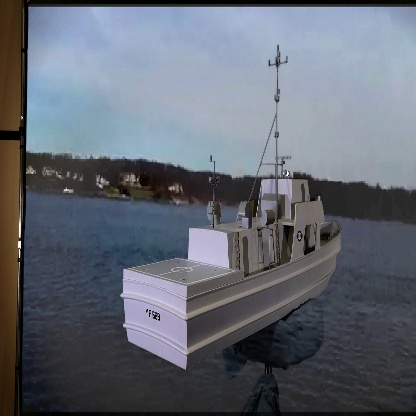YP689: (120, 44, 342, 375)
